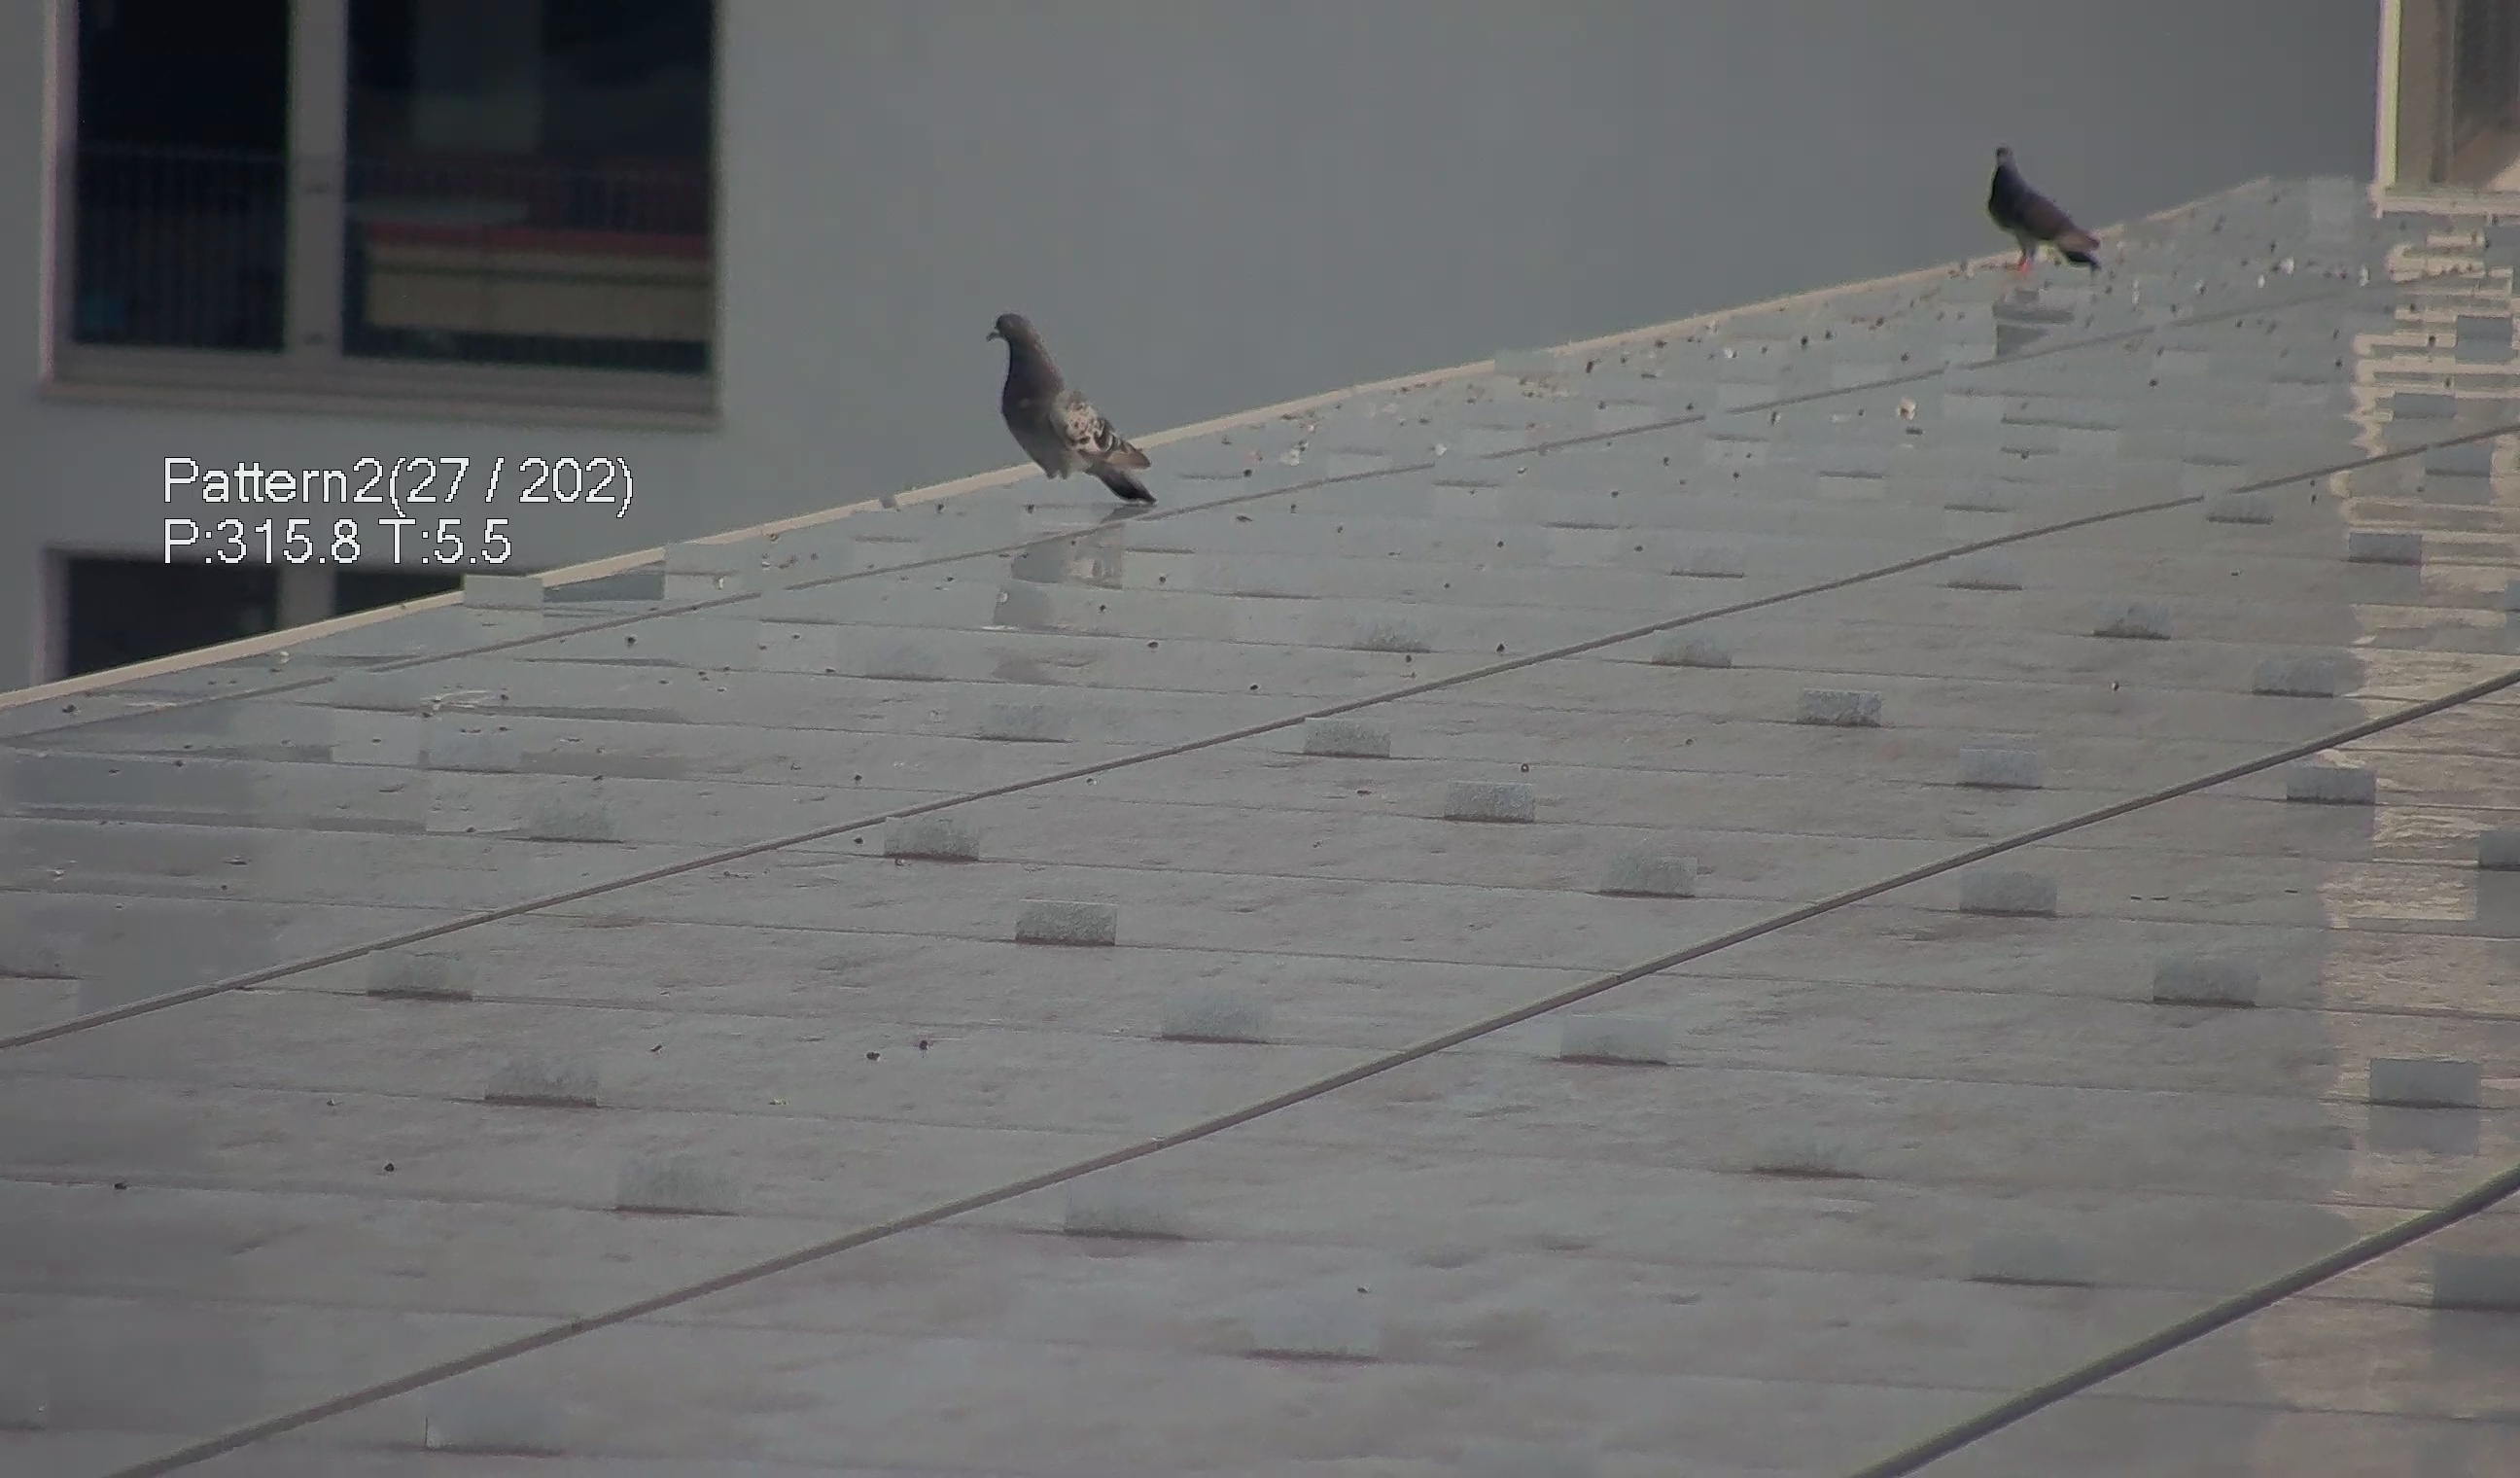Pigeon: (969, 306, 1162, 516), (1982, 132, 2124, 278)
